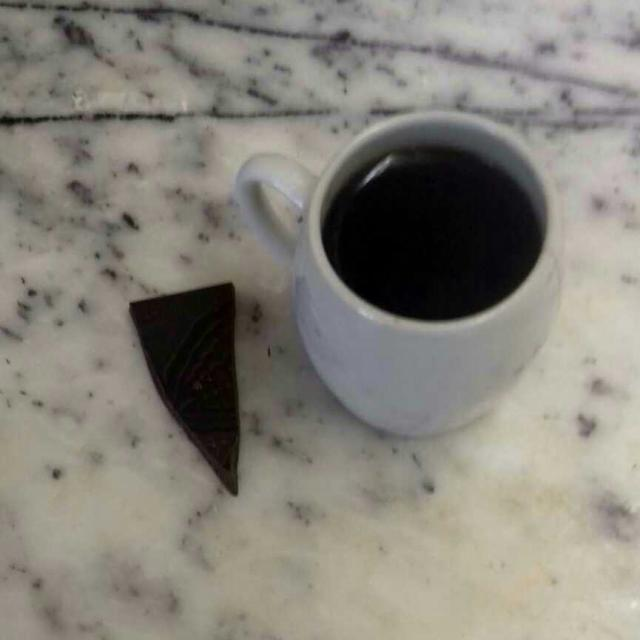chocolate: (130, 282, 253, 509)
coffee: (332, 146, 541, 317)
